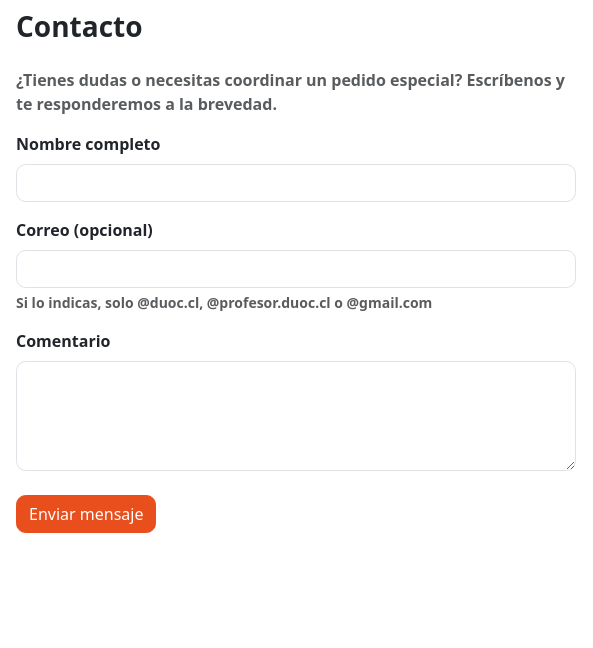
<Contacto /> › al enviar un mensaje válido confirma el envío y limpia el formulario
Type "Ana Pérez" into the field labelled "Nombre completo" at (296, 183), box [16,164,576,202]
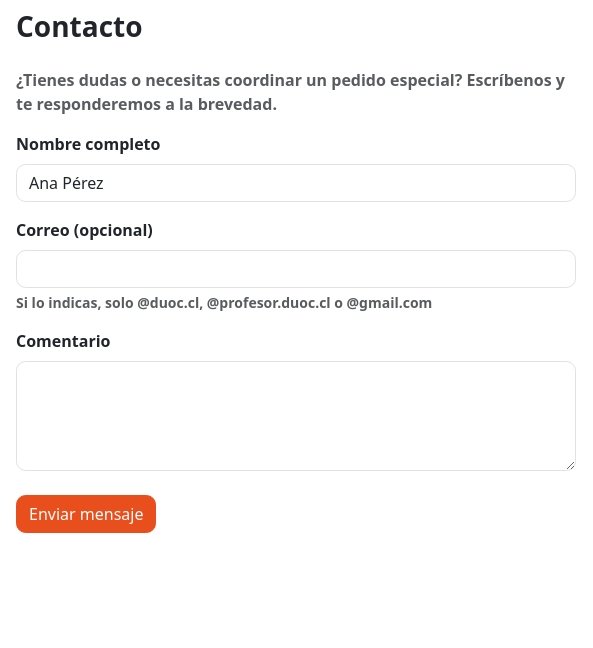
Type "Consulta por despacho" into the text box labelled "Comentario" at (296, 416), box [16,361,576,471]
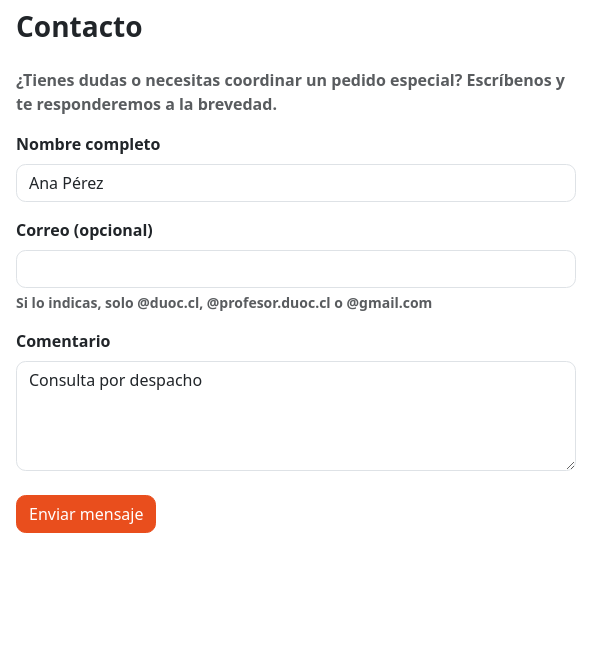
Click the button "Enviar mensaje" at (86, 514), box [16,495,156,533]
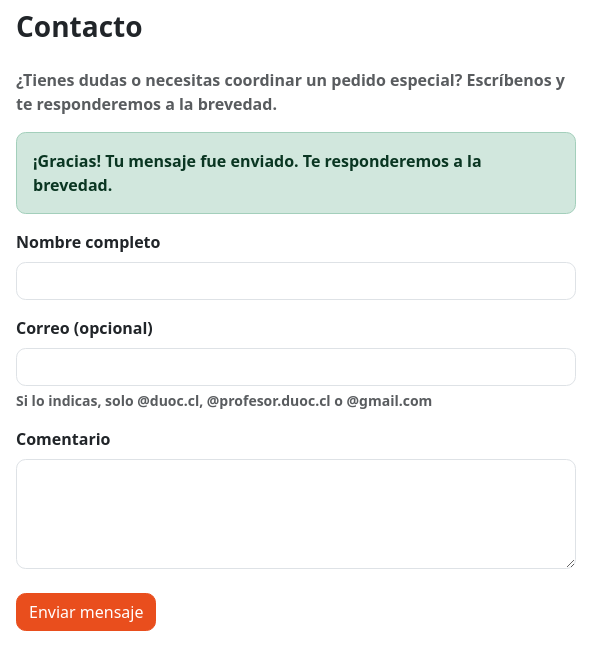
expect the text "¡Gracias! Tu mensaje fue enviado. Te responderemos a la brevedad." is shown: met, box [16,132,576,214]
expect the field labelled "Nombre completo" is empty: met, box [16,262,576,300]
